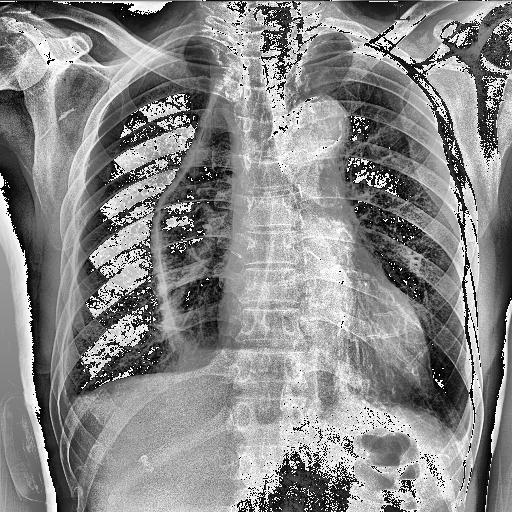0- Aortic enlargement: (260, 94, 360, 182)
10- Pleural effusion: (20, 350, 178, 459), (358, 364, 488, 474), (36, 354, 92, 402), (432, 422, 498, 448), (50, 392, 88, 414)
11- Pleural thickening: (166, 34, 226, 66)
2- Calcification: (280, 88, 355, 172), (291, 96, 350, 150)
5- ILD: (338, 372, 472, 430), (371, 374, 473, 440), (59, 336, 192, 386)
9- Other lesion: (124, 10, 334, 438), (141, 46, 246, 369), (153, 80, 262, 360)
